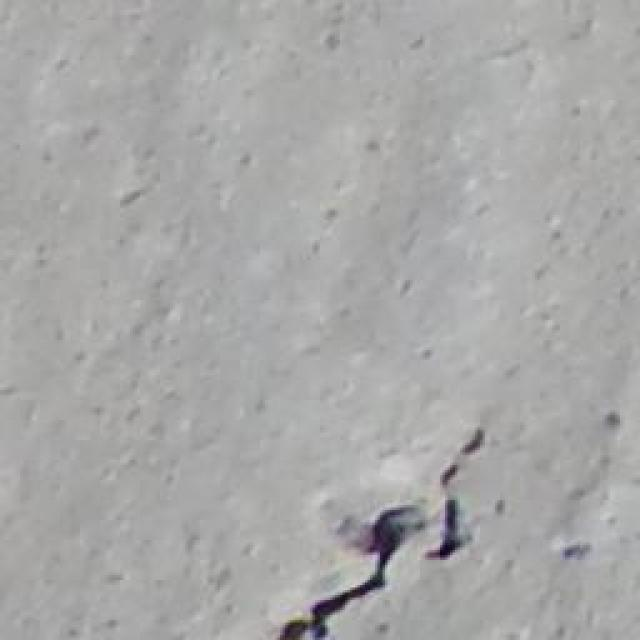concrete-crack: (269, 423, 494, 640)
